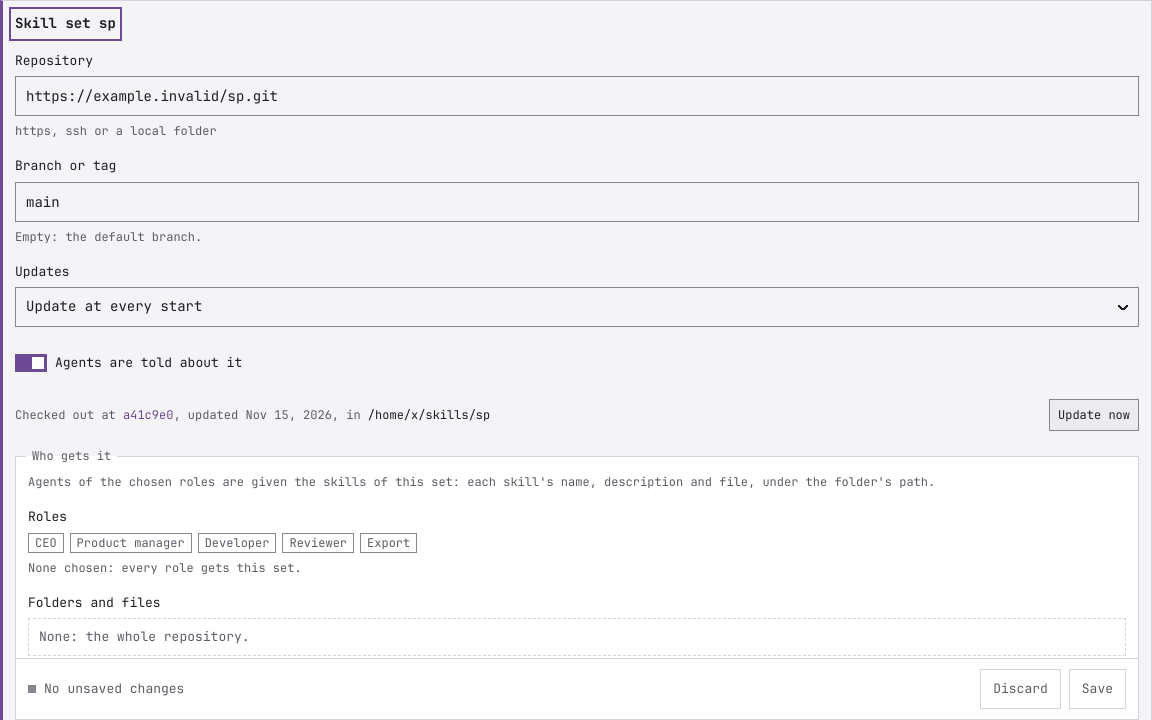
a refused update shows the refusal
Step 1. Click the button "Update now" → coordinates (1094, 415), box [1049,399,1139,431]
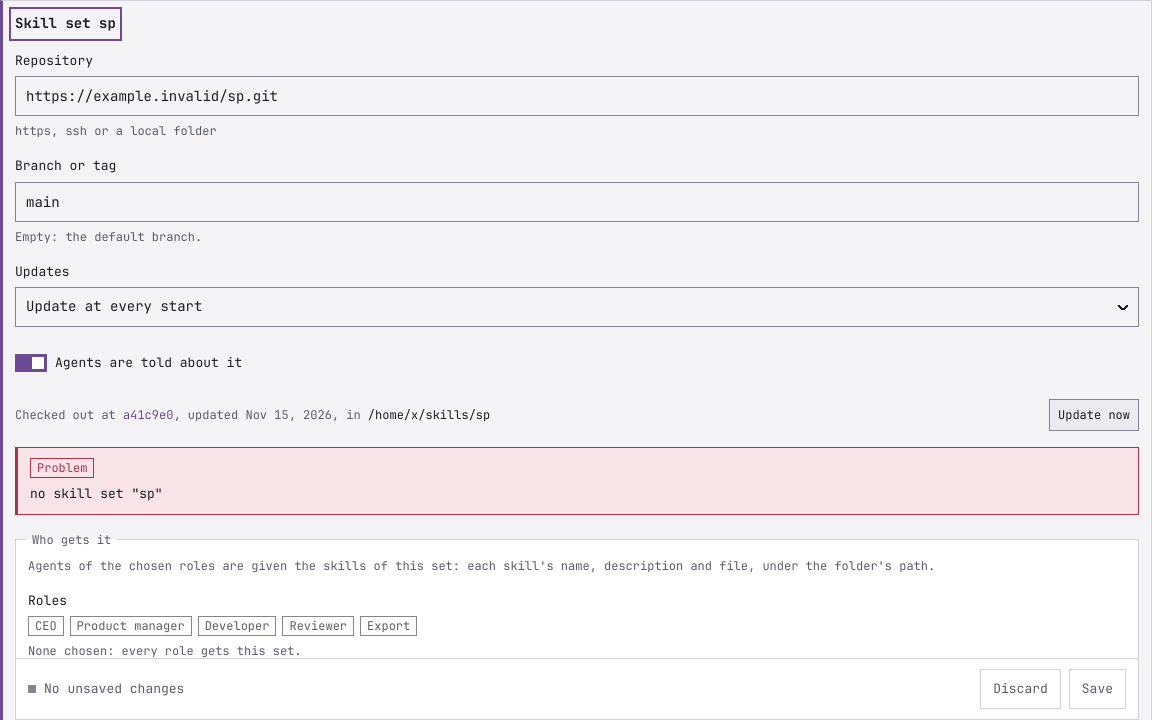
Expected: the element with class "callout__body" reads "no skill set \"sp\"", [30,485,163,502]
